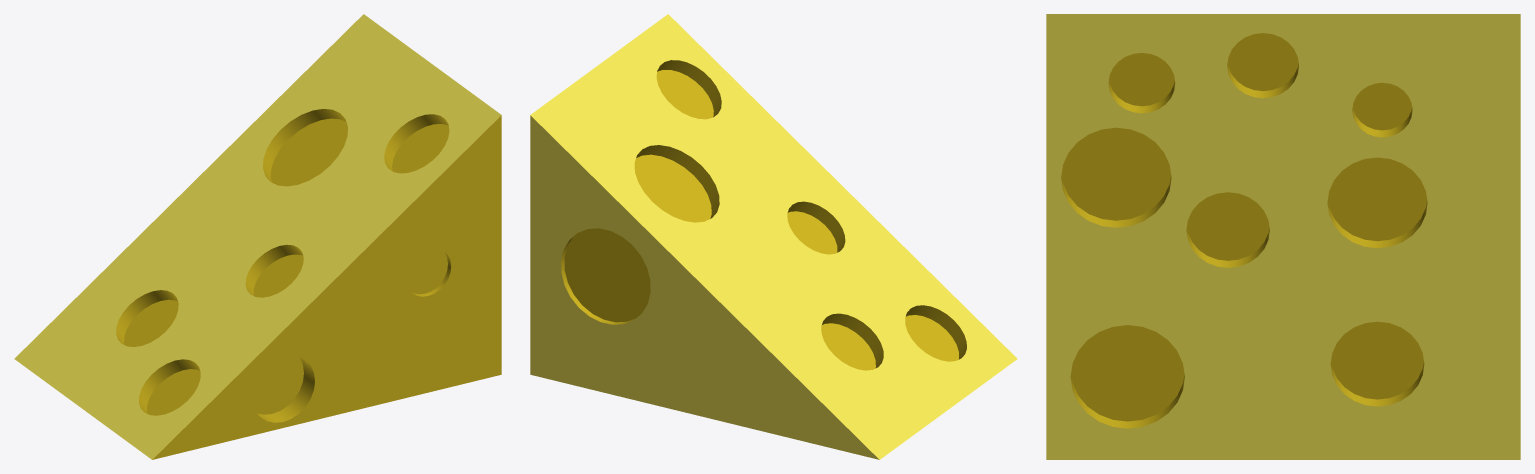
File: Cheese.dae
3 views of the same model, side by side, from view 1: azimuth 30°, elevation 25°; view 2: azimuth 150°, elevation 25°; view 3: azimuth 270°, elevation 25° (orthographic). The views are drawn at different scales.
Parts seen in each view (by area): view 1: SketchUp (×9); view 2: SketchUp (×7); view 3: SketchUp (×9).
Part boxes in pixels (x1,y1,x2,y2): SketchUp (×9): [14, 14, 501, 459]; SketchUp (×7): [530, 14, 1017, 459]; SketchUp (×9): [1046, 14, 1520, 459].
Bounding box in the file's own units: 270 × 184 × 192.
